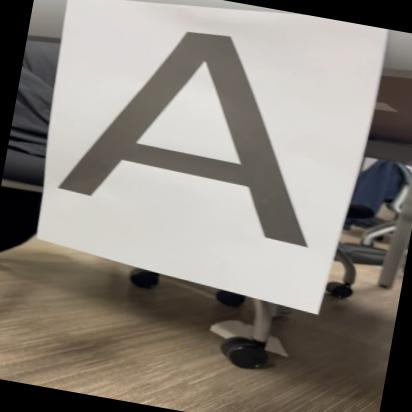seat: (39, 2, 352, 252)
